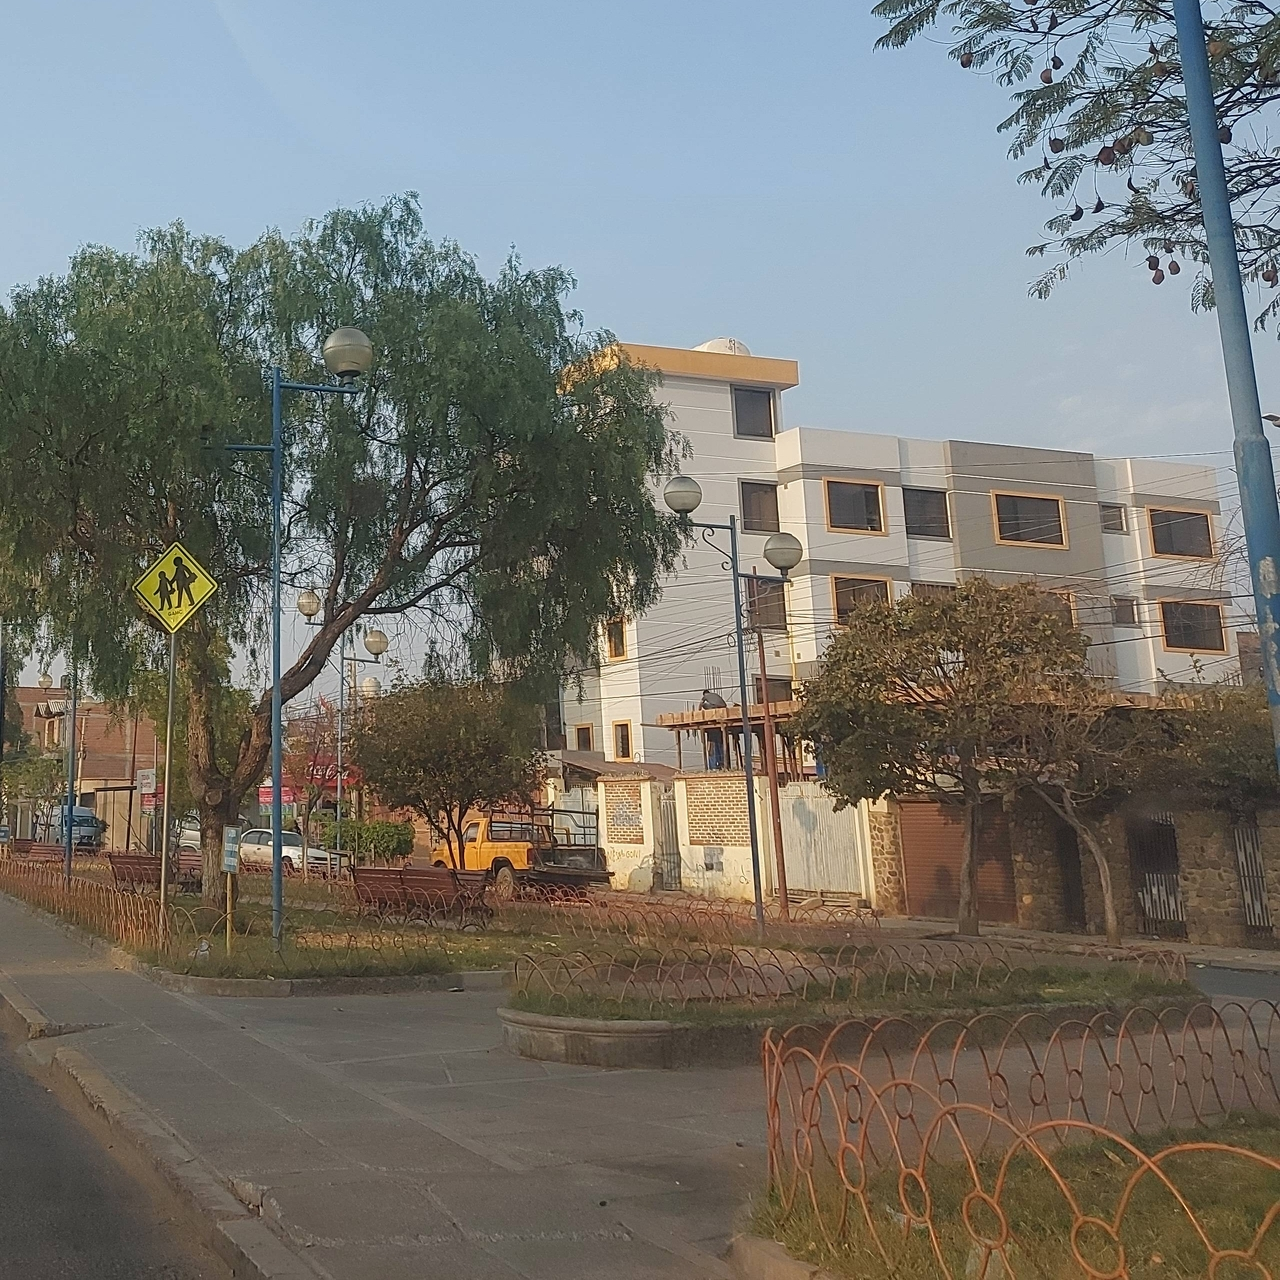zona-escolar: (128, 538, 217, 633)
